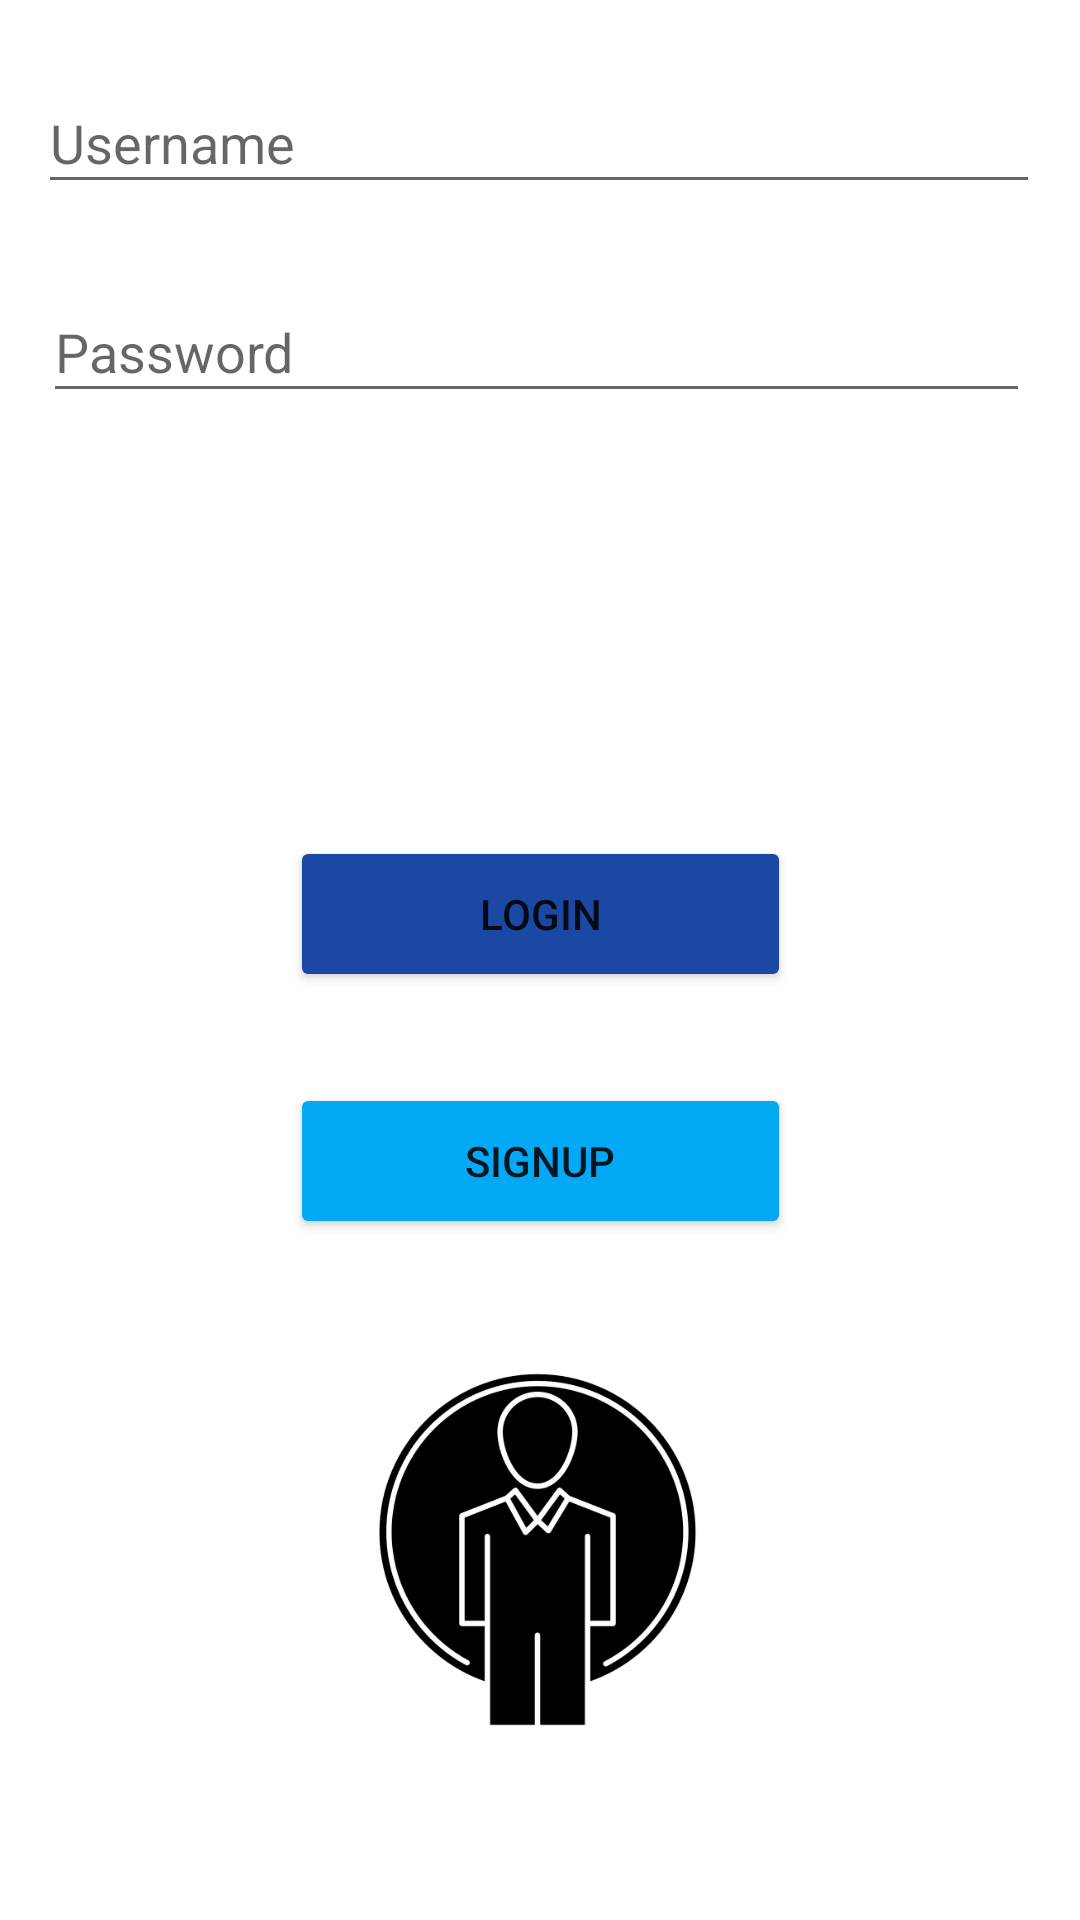

Where to tap for icons on this 1080×1920 app screen, as (x=x, y=y):
iconfinder user id login: (x=537, y=1549)
